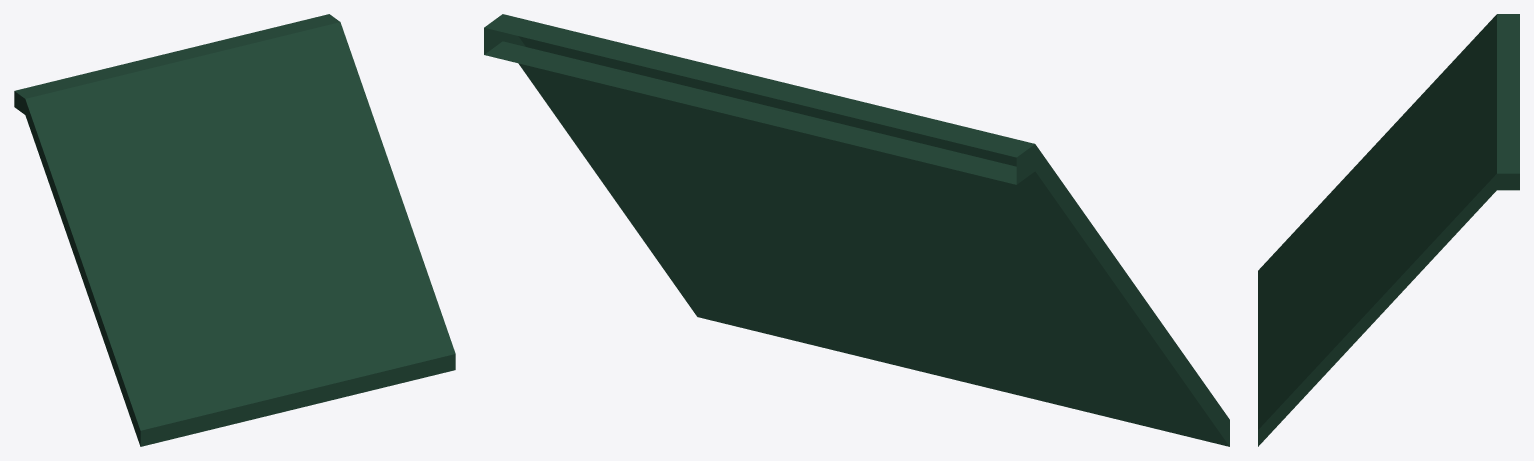
File: roof01_house3.obj
The picture shows the model from 3 angles, left to right: view 1: azimuth 30°, elevation 25°; view 2: azimuth 150°, elevation 25°; view 3: azimuth 270°, elevation 25°; orthographic projection. The views are drawn at different scales.
Visible parts, largest first — view 1: Roof01_house3.001_Cube.003; view 2: Roof01_house3.001_Cube.003; view 3: Roof01_house3.001_Cube.003.
Boxes of the visible parts, x1,y1,x2,y2 form: Roof01_house3.001_Cube.003: [14, 14, 455, 446]; Roof01_house3.001_Cube.003: [484, 14, 1229, 446]; Roof01_house3.001_Cube.003: [1258, 14, 1519, 446].
Bounding box in the file's own units: 4.48 × 3.58 × 3.11.
